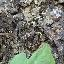Morning glory: (0, 33, 64, 64)
